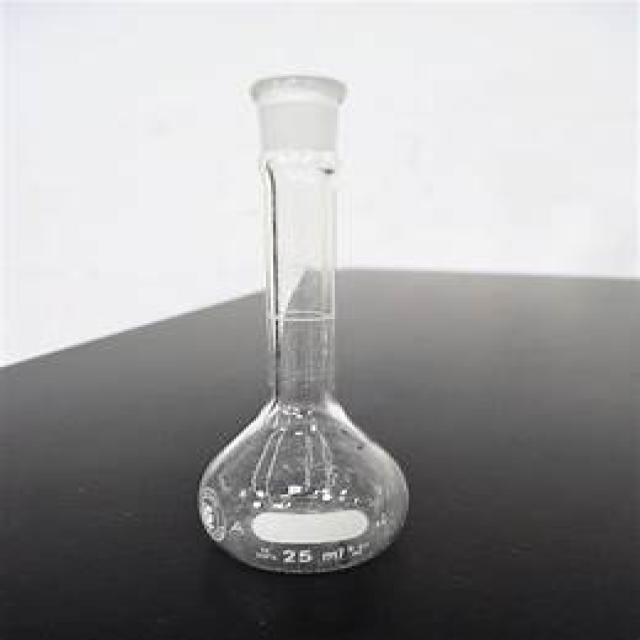Volumetric flask: (194, 59, 415, 568)
